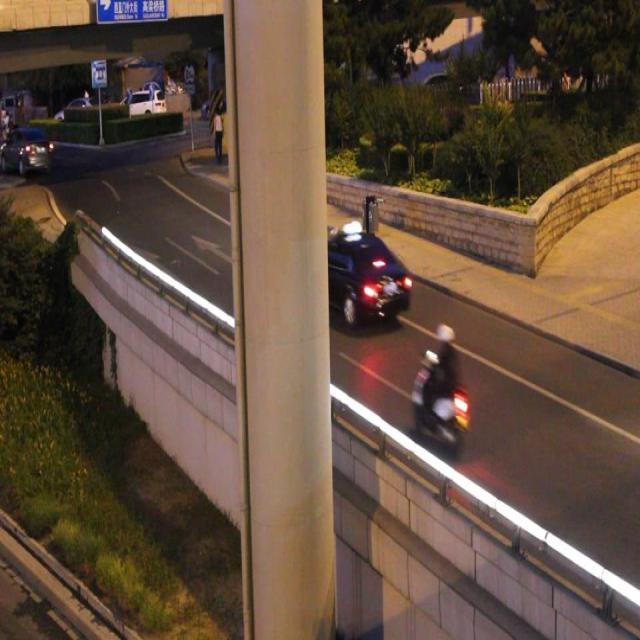car: (298, 233, 409, 324), (0, 129, 50, 173)
